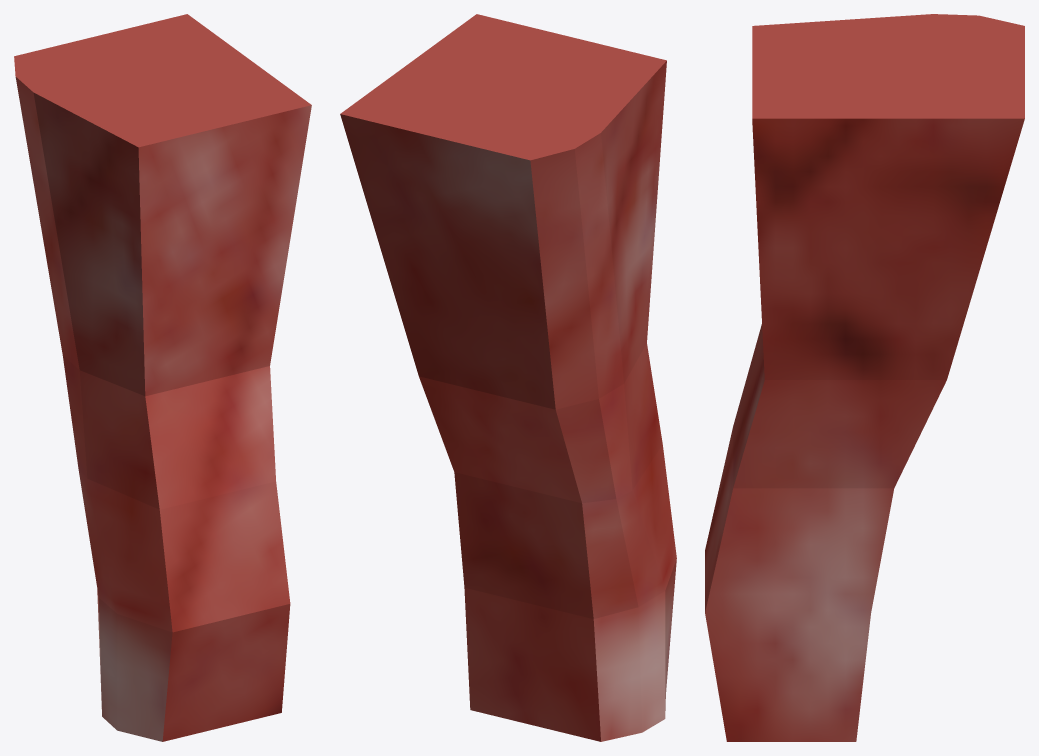
File: GoatMan_GibLeg2.fbx
3 renders of one model, left to right at view 1: azimuth 30°, elevation 25°; view 2: azimuth 150°, elevation 25°; view 3: azimuth 270°, elevation 25°, orthographic. The views are drawn at different scales.
Parts seen in each view (by area): view 1: Body; view 2: Body; view 3: Body.
Boxes of the visible parts, <box> form: Body: <box>14,14,311,741</box>; Body: <box>340,14,676,741</box>; Body: <box>705,14,1024,741</box>.
Bounding box in the file's own units: 27.88 × 80.18 × 36.01.
